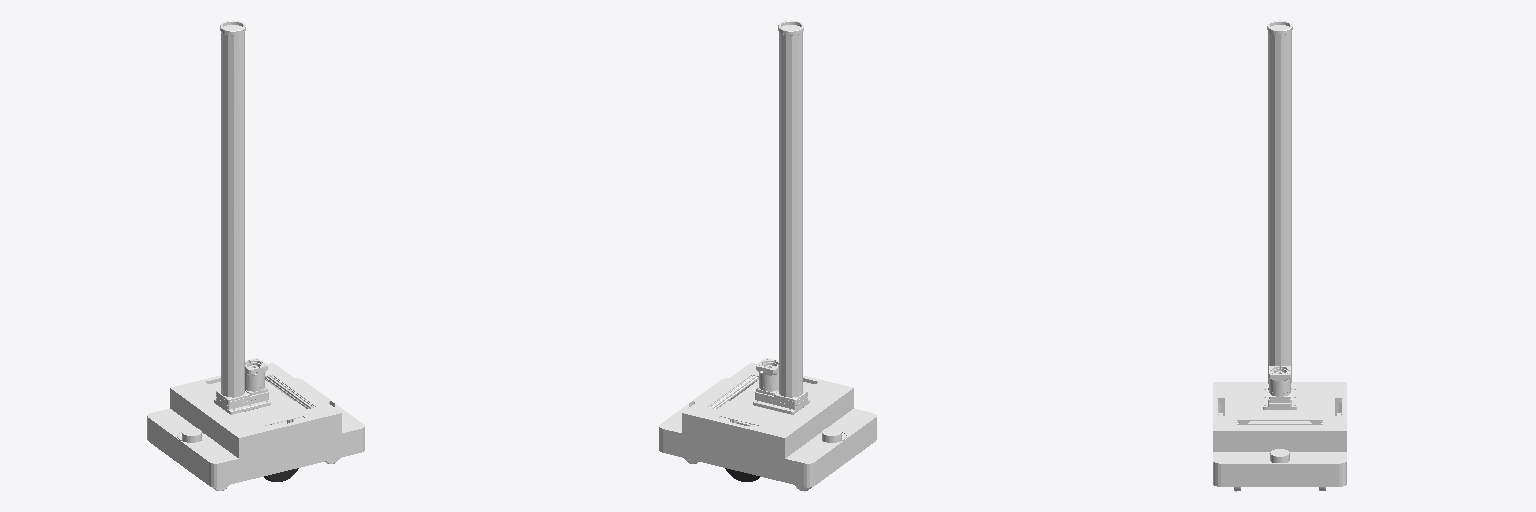
robot.urdf — wheeltec_robot:
<?xml version="1.0" encoding="utf-8"?>
<!-- This URDF was automatically created by SolidWorks to URDF Exporter! Originally created by Stephen Brawner (brawner@gmail.com) 
     Commit Version: 1.6.0-4-g7f85cfe  Build Version: 1.6.7995.38578
     For more information, please see http://wiki.ros.org/sw_urdf_exporter -->
<robot
  name="wheeltec_robot">
  <!-- Ground reference frame; keep inertia on base_link. -->
  <link name="base_footprint" />
  <joint name="base_footprint_joint" type="fixed">
    <parent link="base_footprint" />
    <child link="base_link" />
    <!-- Approximate ground-to-base height from the exported wheel geometry. -->
    <origin xyz="0 0 0.169" rpy="0 0 0" />
  </joint>
  <link
    name="base_link">
    <inertial>
      <origin
        xyz="-0.00232113089638325 -0.000128998404403946 -0.0301634772718575"
        rpy="0 0 0" />
      <mass
        value="5.04107688790753" />
      <inertia
        ixx="0.099274335640858"
        ixy="-8.43069072718876E-06"
        ixz="-4.73786475433832E-05"
        iyy="0.129226551063907"
        iyz="-9.09073894772689E-07"
        izz="0.218683036024669" />
    </inertial>
    <visual>
      <origin
        xyz="0 0 0"
        rpy="0 0 0" />
      <geometry>
        <mesh
          filename="package://wheeltec_robot/meshes/base_link.STL" />
      </geometry>
      <material
        name="">
        <color
          rgba="1 1 1 1" />
      </material>
    </visual>
    <collision>
      <origin
        xyz="0 0 0"
        rpy="0 0 0" />
      <geometry>
        <mesh
          filename="package://wheeltec_robot/meshes/base_link.STL" />
      </geometry>
    </collision>
  </link>
  <link
    name="arm_link">
    <inertial>
      <origin
        xyz="-0.0371352292914597 2.21057588900564E-09 0.768930116688842"
        rpy="0 0 0" />
      <mass
        value="14.109130773572" />
      <inertia
        ixx="2.70656639625217"
        ixy="2.74579788428888E-06"
        ixz="3.66435039154004E-07"
        iyy="2.70871279402954"
        iyz="3.4538981126299E-08"
        izz="0.0203761179019792" />
    </inertial>
    <visual>
      <origin
        xyz="0 0 0"
        rpy="0 0 0" />
      <geometry>
        <mesh
          filename="package://wheeltec_robot/meshes/arm_link.STL" />
      </geometry>
      <material
        name="">
        <color
          rgba="1 1 1 1" />
      </material>
    </visual>
    <collision>
      <origin
        xyz="0 0 0"
        rpy="0 0 0" />
      <geometry>
        <mesh
          filename="package://wheeltec_robot/meshes/arm_link.STL" />
      </geometry>
    </collision>
  </link>
  <joint
    name="arm_joint"
    type="fixed">
    <origin
      xyz="-0.0623376541923338 -0.000120916637849244 0.106"
      rpy="0 0 0" />
    <parent
      link="base_link" />
    <child
      link="arm_link" />
    <axis
      xyz="0 0 0" />
  </joint>
  <link
    name="gyro_link">
    <inertial>
      <origin
        xyz="0.0156869534784437 0.00144133807703289 0.00433524904214538"
        rpy="0 0 0" />
      <mass
        value="0.03132" />
      <inertia
        ixx="3.0164793908046E-05"
        ixy="3.6464367816094E-07"
        ixz="-2.79678160919558E-08"
        iyy="9.97778839080457E-06"
        iyz="8.05402298850575E-07"
        izz="3.95249025287356E-05" />
    </inertial>
    <visual>
      <origin
        xyz="0 0 0"
        rpy="0 0 0" />
      <geometry>
        <mesh
          filename="package://wheeltec_robot/meshes/imu_link.STL" />
      </geometry>
      <material
        name="">
        <color
          rgba="1 1 1 1" />
      </material>
    </visual>
    <collision>
      <origin
        xyz="0 0 0"
        rpy="0 0 0" />
      <geometry>
        <mesh
          filename="package://wheeltec_robot/meshes/imu_link.STL" />
      </geometry>
    </collision>
  </link>
  <joint
    name="gyro_joint"
    type="fixed">
    <origin
      xyz="0.0700000000000001 0.00499999999999978 0"
      rpy="0 0 0" />
    <parent
      link="base_link" />
    <child
      link="gyro_link" />
    <axis
      xyz="0 0 0" />
  </joint>
  <link
    name="left_wheel_link">
    <inertial>
      <origin
        xyz="5.55111512312578E-17 -0.0301854725043182 -5.55111512312578E-17"
        rpy="0 0 0" />
      <mass
        value="1.5244488117655" />
      <inertia
        ixx="0.00383550823643388"
        ixy="3.63232484582474E-19"
        ixz="1.6202117799984E-19"
        iyy="0.00698558627908961"
        iyz="3.48909397101115E-19"
        izz="0.00383550823643387" />
    </inertial>
    <visual>
      <origin
        xyz="0 0 0"
        rpy="0 0 0" />
      <geometry>
        <mesh
          filename="package://wheeltec_robot/meshes/left_wheel_link.STL" />
      </geometry>
      <material
        name="">
        <color
          rgba="0.250980392156863 0.250980392156863 0.250980392156863 1" />
      </material>
    </visual>
    <collision>
      <origin
        xyz="0 0 0"
        rpy="0 0 0" />
      <geometry>
        <mesh
          filename="package://wheeltec_robot/meshes/left_wheel_link.STL" />
      </geometry>
    </collision>
  </link>
  <joint
    name="left_wheel_joint"
    type="continuous">
    <origin
      xyz="-0.00999999999999951 0.240379083362151 -0.0690000000000002"
      rpy="0 0 0" />
    <parent
      link="base_link" />
    <child
      link="left_wheel_link" />
    <axis
      xyz="0 -1 0" />
  </joint>
  <link
    name="right_wheel_link">
    <inertial>
      <origin
        xyz="0 0.0301854725043182 0"
        rpy="0 0 0" />
      <mass
        value="1.5244488117655" />
      <inertia
        ixx="0.00383550823643387"
        ixy="1.47650428010527E-18"
        ixz="-7.36380040319759E-20"
        iyy="0.0069855862790896"
        iyz="-4.246388438308E-19"
        izz="0.00383550823643387" />
    </inertial>
    <visual>
      <origin
        xyz="0 0 0"
        rpy="0 0 0" />
      <geometry>
        <mesh
          filename="package://wheeltec_robot/meshes/right_wheel_link.STL" />
      </geometry>
      <material
        name="">
        <color
          rgba="0.250980392156863 0.250980392156863 0.250980392156863 1" />
      </material>
    </visual>
    <collision>
      <origin
        xyz="0 0 0"
        rpy="0 0 0" />
      <geometry>
        <mesh
          filename="package://wheeltec_robot/meshes/right_wheel_link.STL" />
      </geometry>
    </collision>
  </link>
  <joint
    name="right_wheel_joint"
    type="continuous">
    <origin
      xyz="-0.00999999999999951 -0.240620916637849 -0.0690000000000003"
      rpy="0 0 0" />
    <parent
      link="base_link" />
    <child
      link="right_wheel_link" />
    <axis
      xyz="0 -1 0" />
  </joint>
  <link
    name="laser1">
    <inertial>
      <origin
        xyz="0 0 -0.0175"
        rpy="0 0 0" />
      <mass
        value="0.175929188601029" />
      <inertia
        ixx="8.83311134434331E-05"
        ixy="0"
        ixz="8.32221931789663E-38"
        iyy="8.83311134434331E-05"
        iyz="-2.37984281928436E-37"
        izz="0.000140743350880823" />
    </inertial>
    <visual>
      <origin
        xyz="0 0 0"
        rpy="0 0 0" />
      <geometry>
        <mesh
          filename="package://wheeltec_robot/meshes/front_lidar_link.STL" />
      </geometry>
      <material
        name="">
        <color
          rgba="1 1 1 1" />
      </material>
    </visual>
    <collision>
      <origin
        xyz="0 0 0"
        rpy="0 0 0" />
      <geometry>
        <mesh
          filename="package://wheeltec_robot/meshes/front_lidar_link.STL" />
      </geometry>
    </collision>
  </link>
  <joint
    name="laser1_joint"
    type="fixed">
    <origin
      xyz="0.3 -0.000120916637803142 0.035"
      rpy="0 0 0" />
    <parent
      link="base_link" />
    <child
      link="laser1" />
    <axis
      xyz="1 0 0" />
  </joint>
  <link
    name="laser2">
    <inertial>
      <origin
        xyz="0 2.77555756156289E-17 -0.0175"
        rpy="0 0 0" />
      <mass
        value="0.175929188601028" />
      <inertia
        ixx="8.8331113443433E-05"
        ixy="0"
        ixz="1.97641021026004E-21"
        iyy="8.8331113443433E-05"
        iyz="-2.53311227256708E-37"
        izz="0.000140743350880823" />
    </inertial>
    <visual>
      <origin
        xyz="0 0 0"
        rpy="0 0 0" />
      <geometry>
        <mesh
          filename="package://wheeltec_robot/meshes/back_lidar_link.STL" />
      </geometry>
      <material
        name="">
        <color
          rgba="1 1 1 1" />
      </material>
    </visual>
    <collision>
      <origin
        xyz="0 0 0"
        rpy="0 0 0" />
      <geometry>
        <mesh
          filename="package://wheeltec_robot/meshes/back_lidar_link.STL" />
      </geometry>
    </collision>
  </link>
  <joint
    name="laser2_joint"
    type="fixed">
    <origin
      xyz="-0.3 -0.000120916637803309 0.035"
      rpy="0 0 0" />
    <parent
      link="base_link" />
    <child
      link="laser2" />
    <axis
      xyz="1 0 0" />
  </joint>
</robot>

--- Facts derived from the render (not from the file) ---
3 views of the same robot in one strip: view 1: azimuth 30°, elevation 25°; view 2: azimuth 150°, elevation 25°; view 3: azimuth 270°, elevation 25° (orthographic).
Robot: wheeltec_robot — 8 links, 7 joints (2 continuous, 5 fixed); root link base_footprint; default pose: all joints at 0.
Links seen in each view (by area): view 1: base_link, arm_link; view 2: base_link, arm_link; view 3: base_link, arm_link.
Boxes of the visible links, bbox=[...] form: base_link: bbox=[147, 363, 364, 490]; arm_link: bbox=[214, 20, 270, 414]; base_link: bbox=[659, 363, 876, 491]; arm_link: bbox=[753, 20, 809, 414]; base_link: bbox=[1213, 382, 1346, 491]; arm_link: bbox=[1263, 20, 1296, 409].
Bounding box of the posed robot: 0.724 × 0.559 × 1.98 m (x, y, z).
7 mesh visuals loaded from 7 distinct referenced files (7 binary STL).
